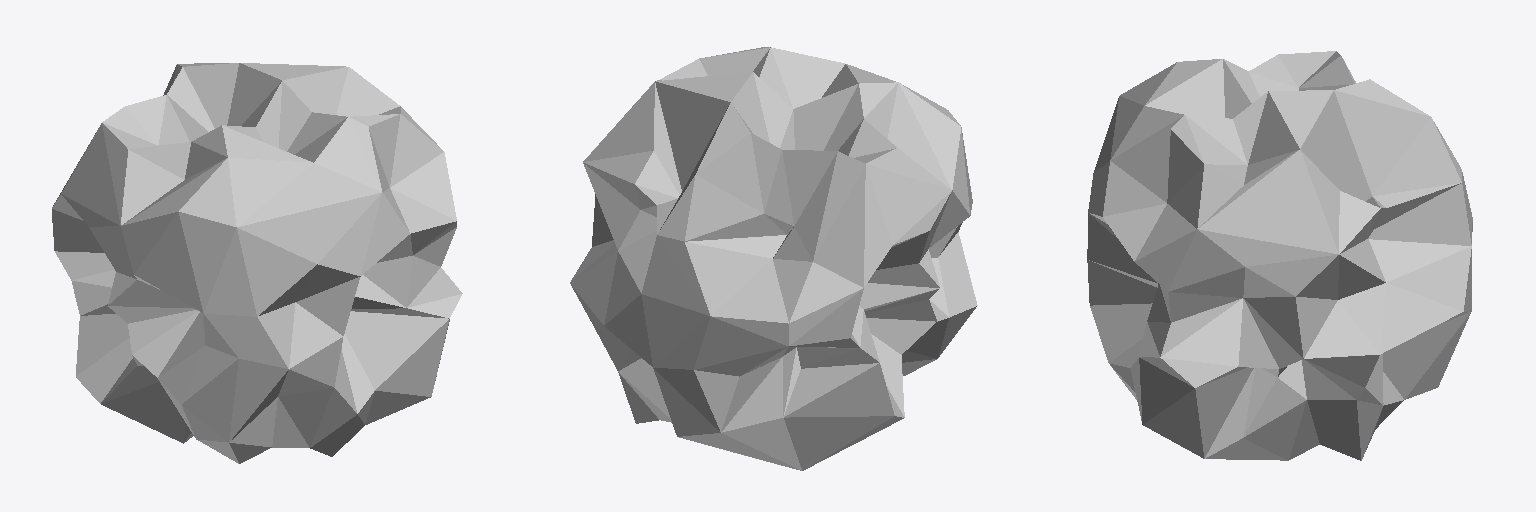
The model's file is Meteor.obj.
3 views of the same model, side by side, from view 1: azimuth 30°, elevation 25°; view 2: azimuth 150°, elevation 25°; view 3: azimuth 270°, elevation 25° (orthographic).
Visible parts, largest first — view 1: Cube; view 2: Cube; view 3: Cube.
Boxes of the visible parts, x1,y1,x2,y2 form: Cube: [52, 63, 462, 463]; Cube: [570, 47, 977, 470]; Cube: [1087, 51, 1472, 460].
Size of the model in its own units: 0.0177 by 0.018 by 0.018.